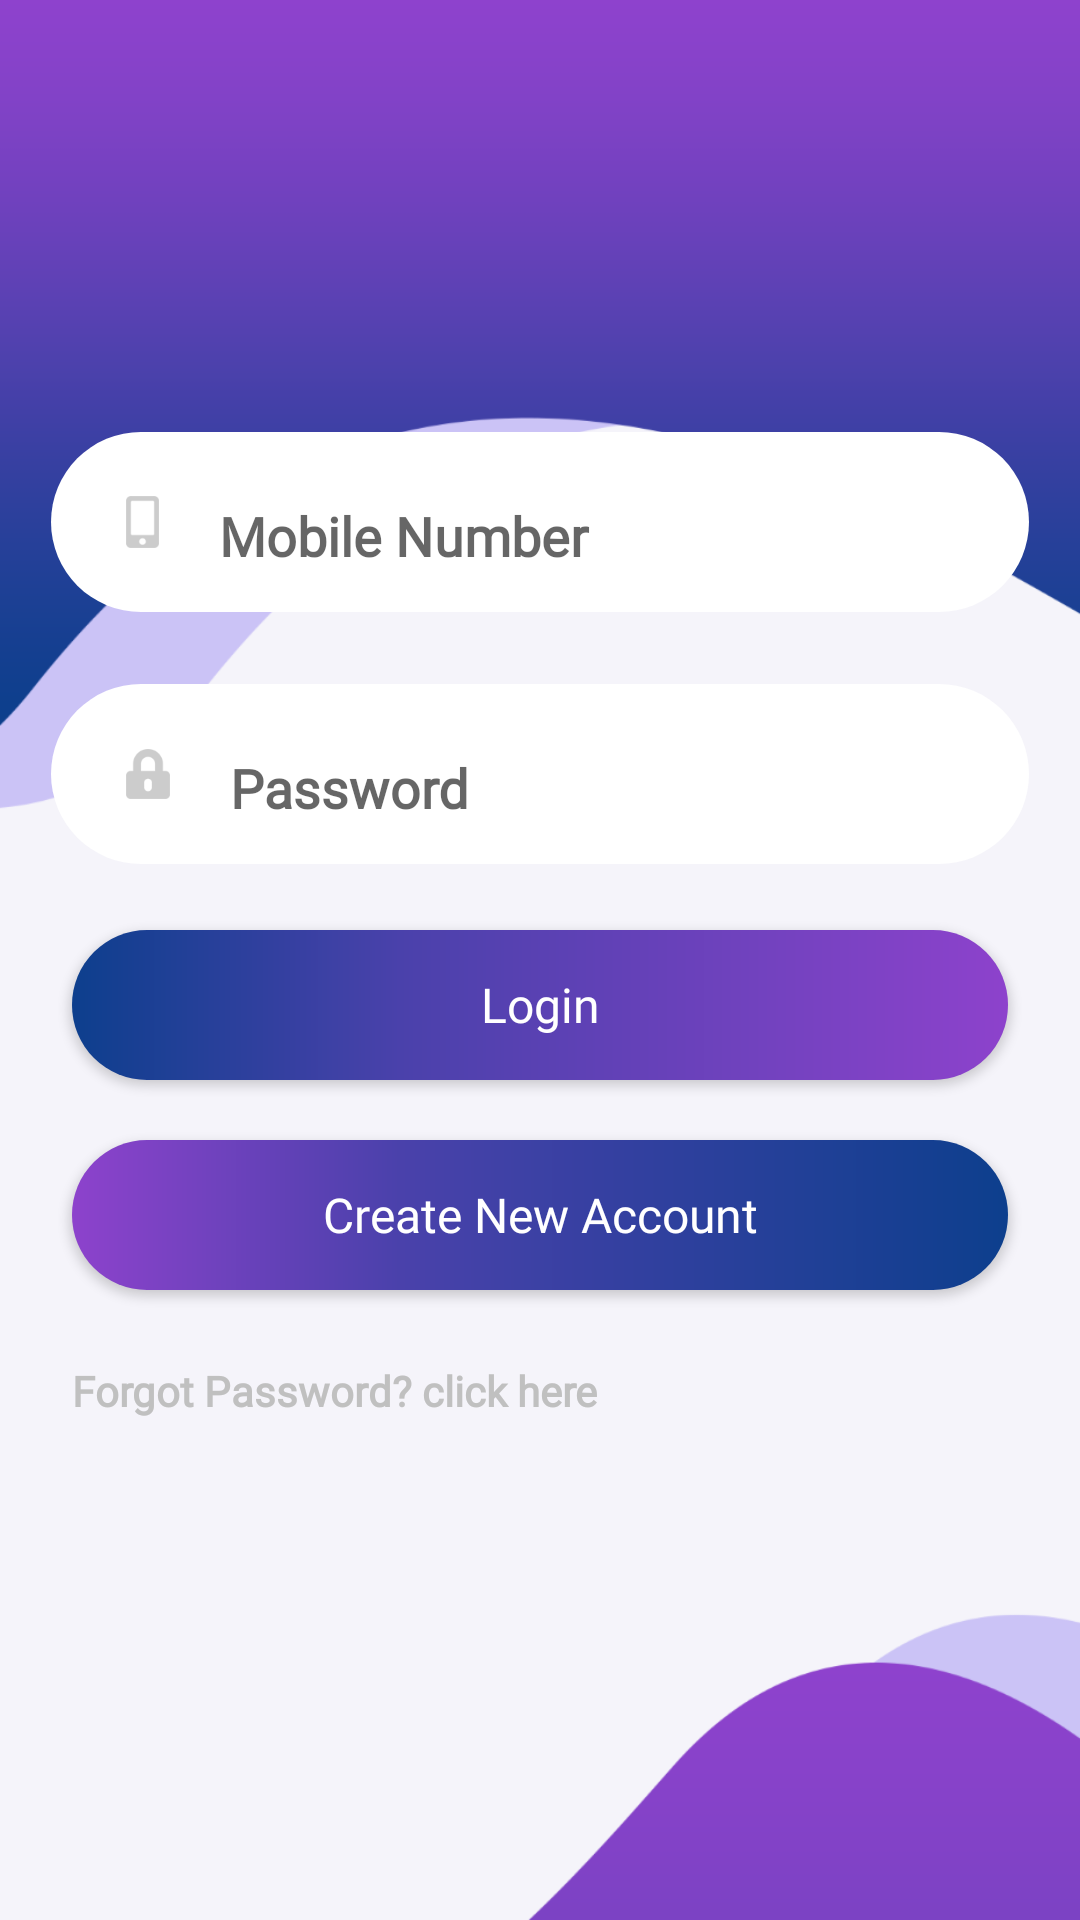

Icon click points for this 1080w x 1920h phone screenshot, format [x,y]:
phone: [142,522]
